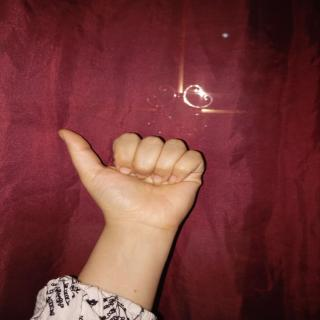DAD: (47, 111, 211, 243)
